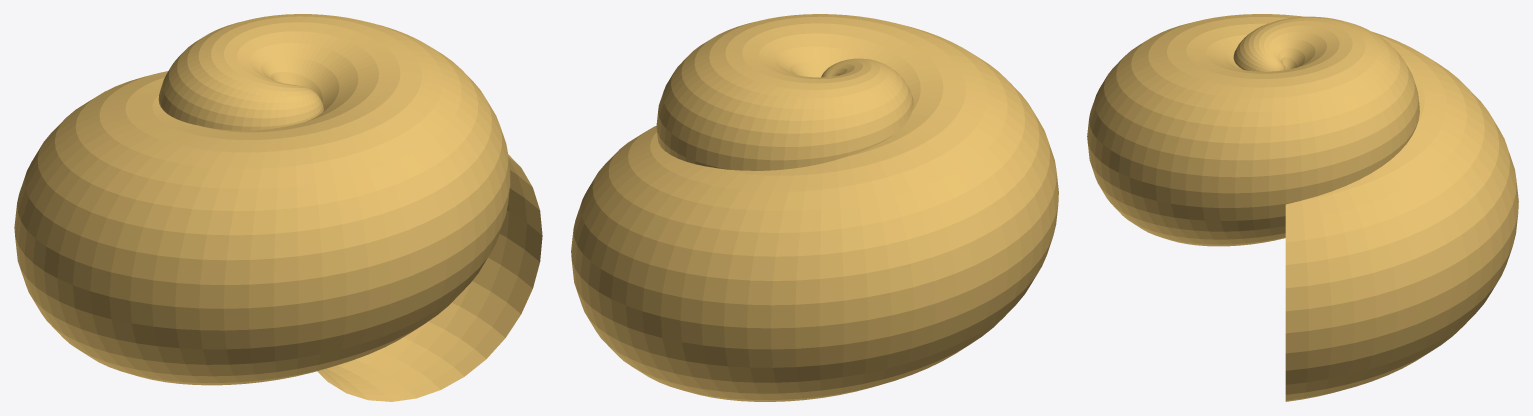
Rendered from shell.gltf.
3 views of the same model, side by side, from view 1: azimuth 30°, elevation 25°; view 2: azimuth 150°, elevation 25°; view 3: azimuth 270°, elevation 25° (orthographic). The views are drawn at different scales.
Visible parts, largest first — view 1: XYZ Function; view 2: XYZ Function; view 3: XYZ Function.
Part boxes in pixels (bbox=[...]): XYZ Function: bbox=[14, 14, 542, 401]; XYZ Function: bbox=[571, 14, 1058, 401]; XYZ Function: bbox=[1087, 14, 1518, 401].
Bounding box in the file's own units: 3.85 × 2.8 × 3.63.
